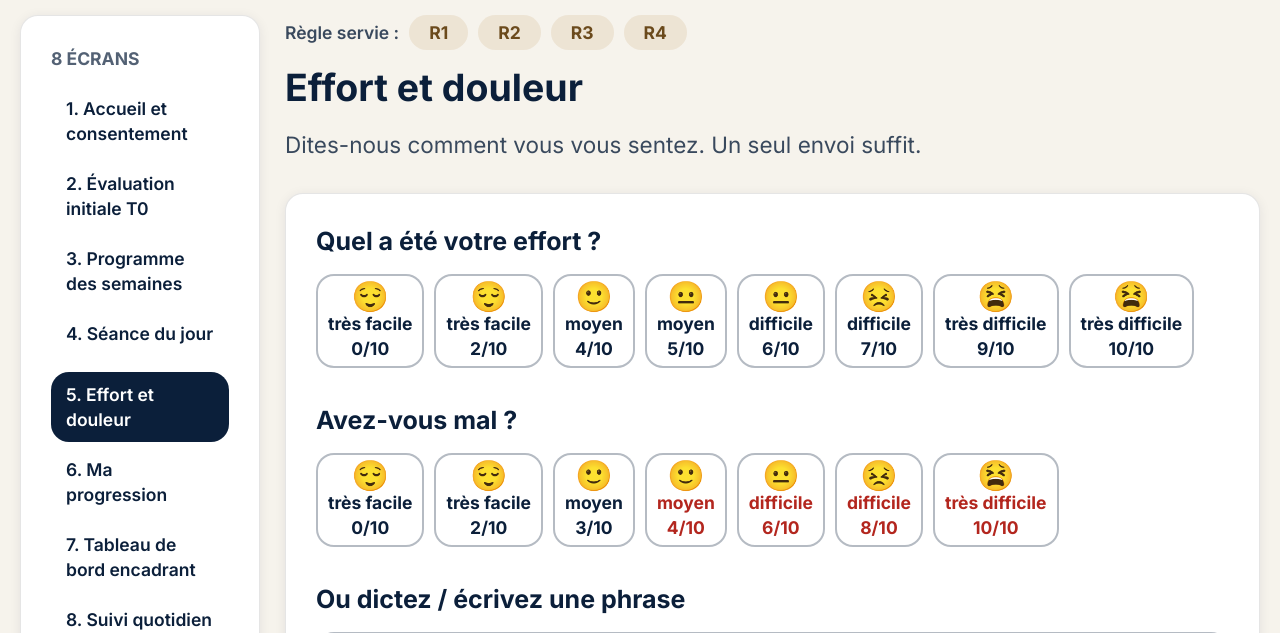
Test case: Navigation et écrans pèlerin › écran 5 — une douleur ≥ 4 déclenche R4 et alimente le journal
What coordinates should you click on to do the following:
click the button "🙂 moyen 4/10" below "Avez-vous mal ?"
I would click on:
 (686, 500)
Its box is [645,453,727,547].
(page scrolled)
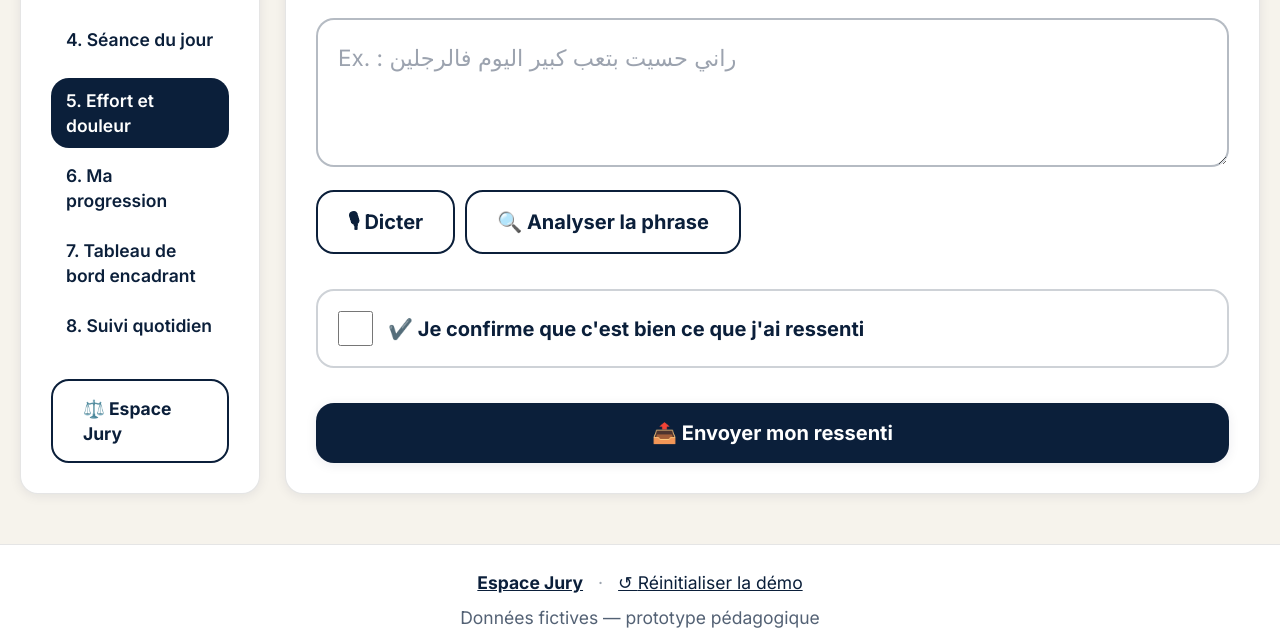
What coordinates should you click on to do the following:
click the checkbox
I would click on:
 (356, 329)
Its box is [338,311,373,346].
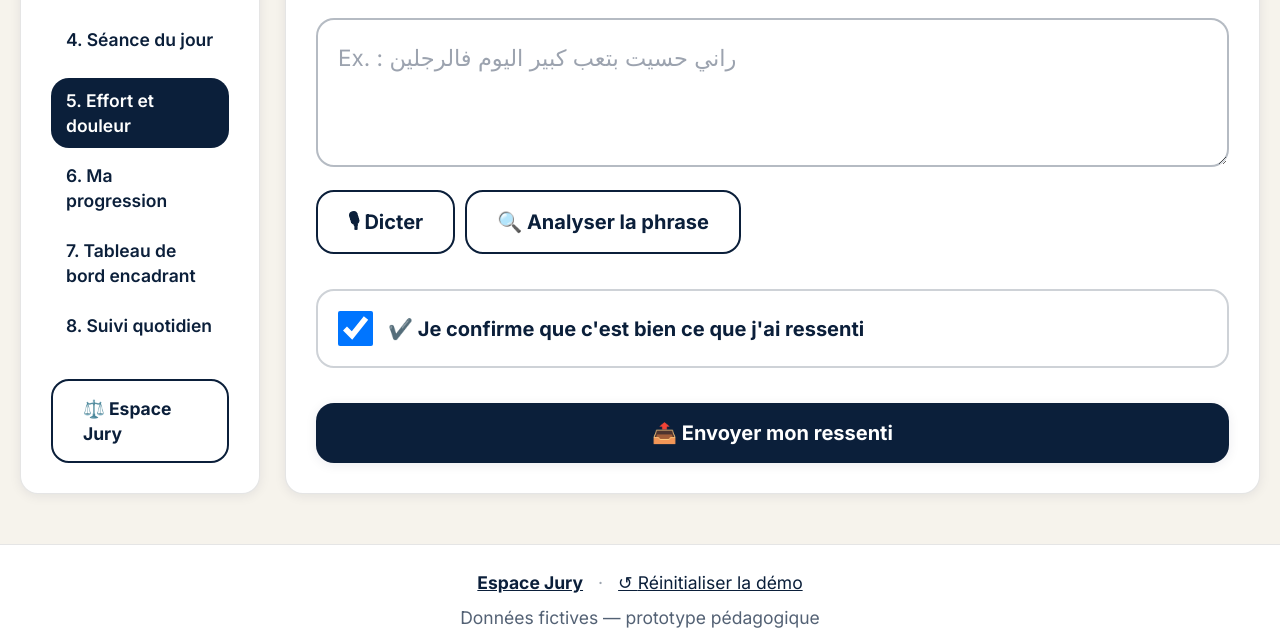
What coordinates should you click on to do the following:
click the button "📤 Envoyer mon ressenti"
I would click on:
 (772, 433)
Its box is [316,403,1229,463].
(page scrolled)
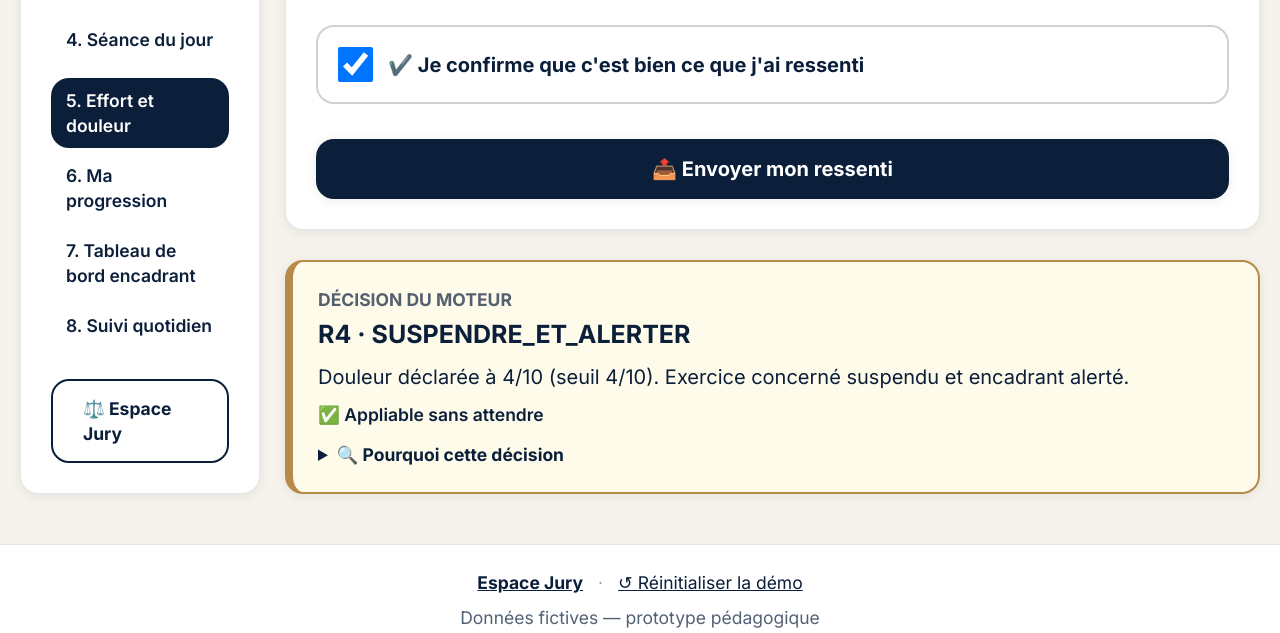
Result: the element with test id "carte-decision" shows "R4" at [318,319,351,349]
